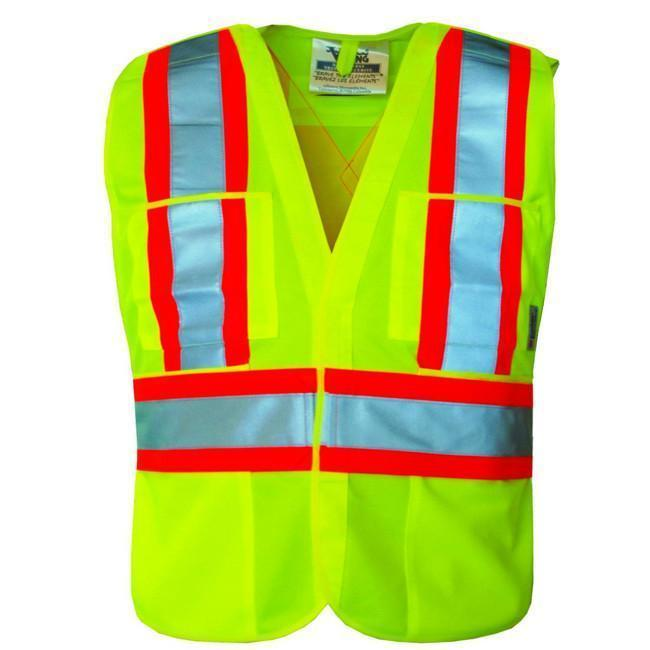vest: (109, 21, 556, 639)
